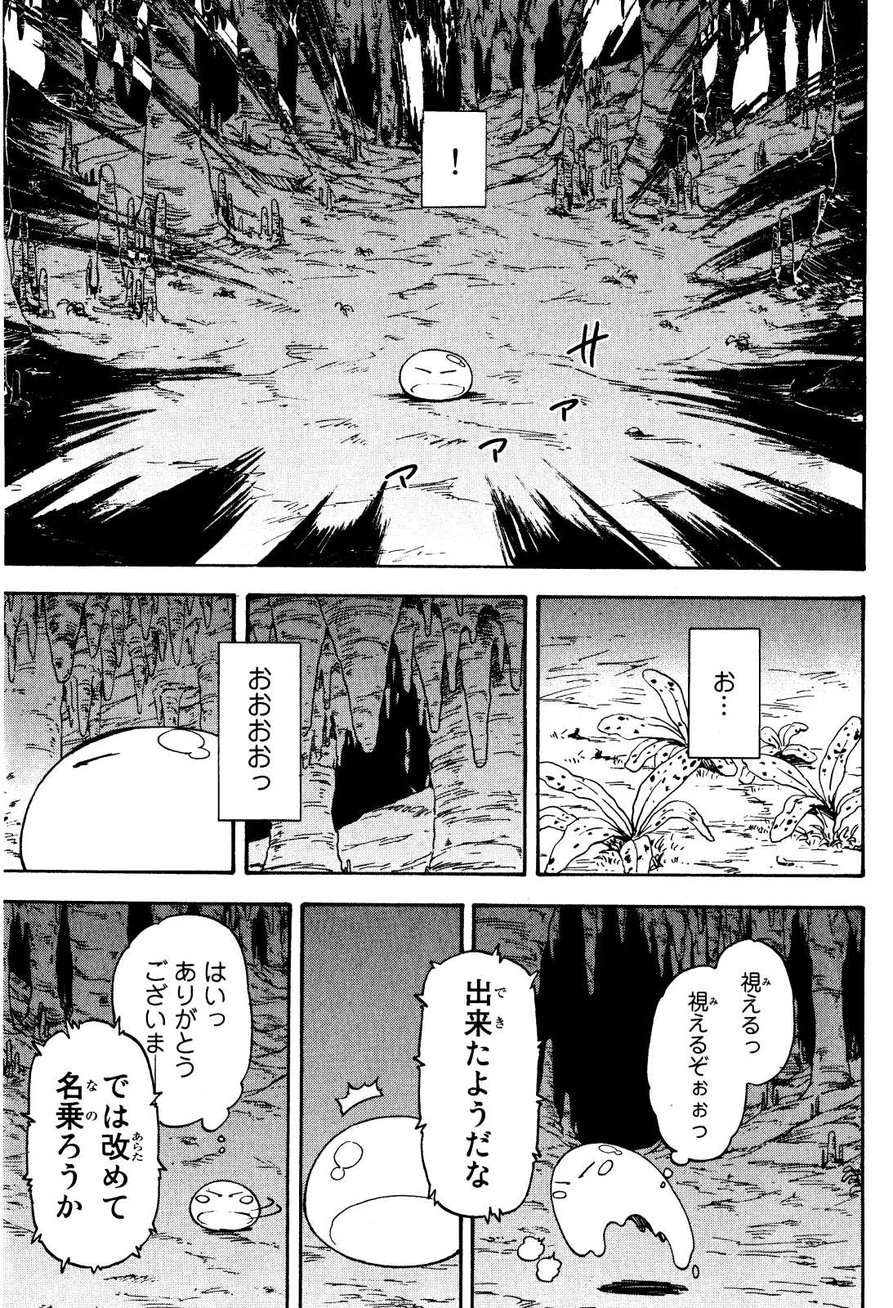bubbles: (639, 934, 797, 1197), (19, 1015, 163, 1282), (409, 946, 546, 1226), (109, 909, 258, 1162), (213, 638, 308, 826), (686, 625, 763, 762), (418, 108, 489, 212)
